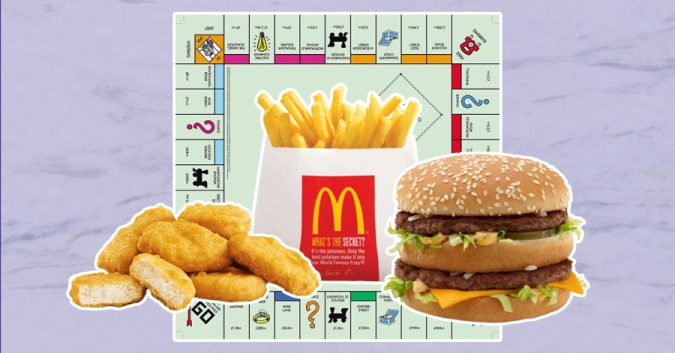mcdonalds: (311, 181, 368, 240)
